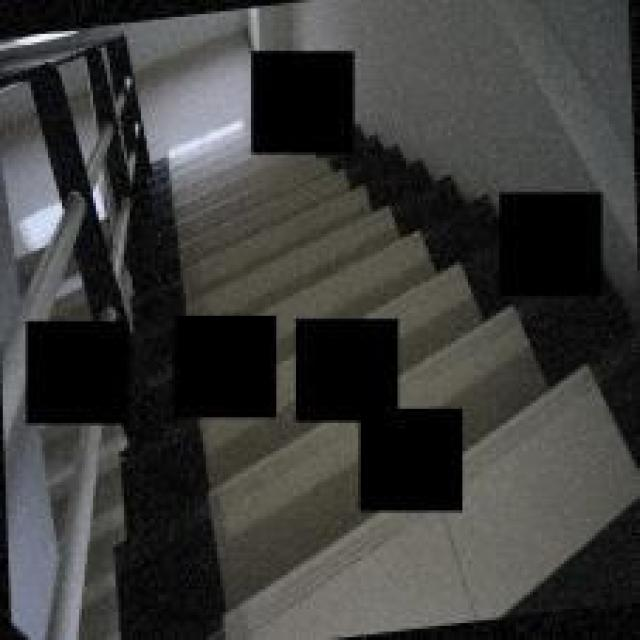downstair: (170, 168, 441, 309)
